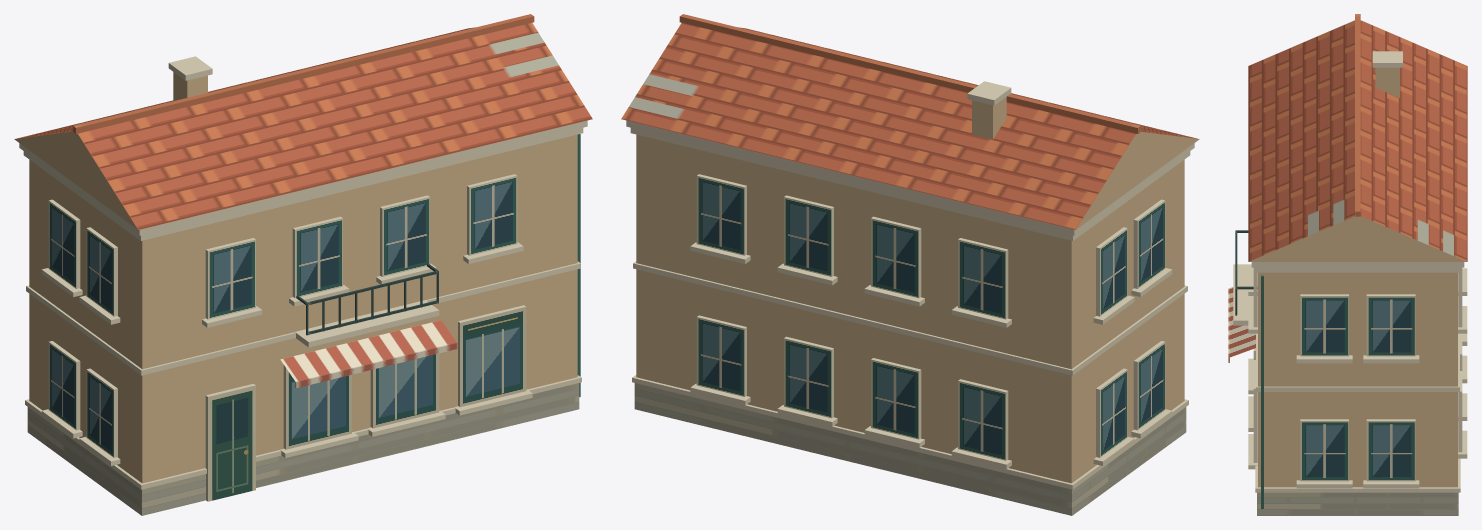
Rendered from SM_QD_D_LongShop.fbx.
3 views of the same model, side by side, from view 1: azimuth 30°, elevation 25°; view 2: azimuth 150°, elevation 25°; view 3: azimuth 270°, elevation 25° (orthographic). The views are drawn at different scales.
Visible parts, largest first — view 1: SM_QD_D_LongShop; view 2: SM_QD_D_LongShop; view 3: SM_QD_D_LongShop.
Part boxes in pixels (x1,y1,x2,y2): SM_QD_D_LongShop: [14, 14, 592, 515]; SM_QD_D_LongShop: [621, 14, 1199, 515]; SM_QD_D_LongShop: [1228, 14, 1467, 515].
Size of what is drawn, in the model's own units: 10.52 by 5.39 by 8.03.
Materials: 1 (1 with a texture image).
